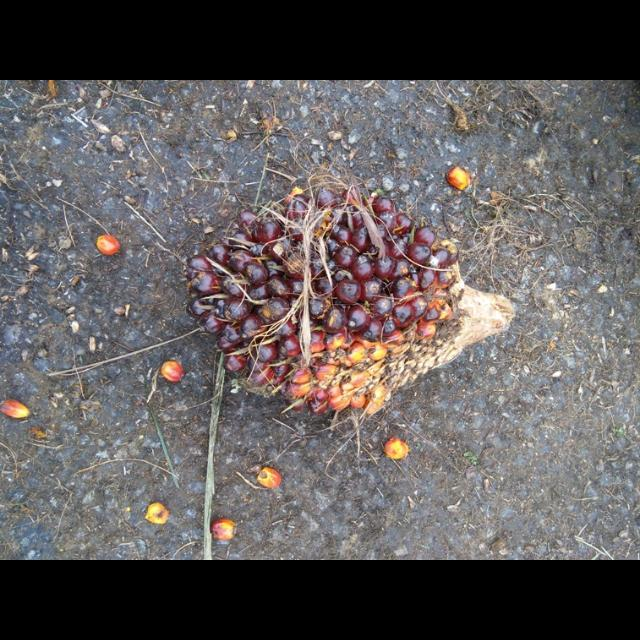Ripe: (187, 176, 516, 416)
